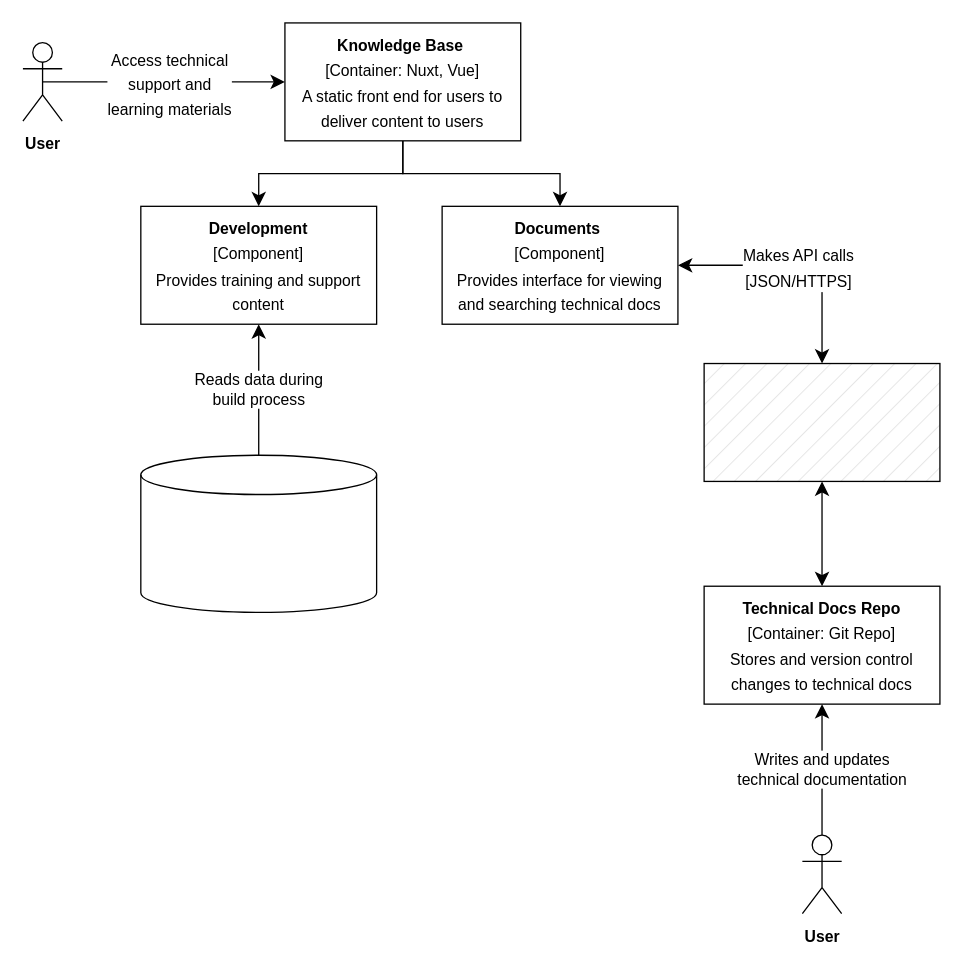
This 963x971 diagram has some shape labels left out. The shapes that lost their labels are listed below. From the top down, each one's centre as x and y in pixels, then its label:
At point (821, 421): "GitHub API [Software] Handles all transactions for retrieving repo data".
At point (258, 533): "Course Storage [Container: JSON] Stores course and resource data.".
